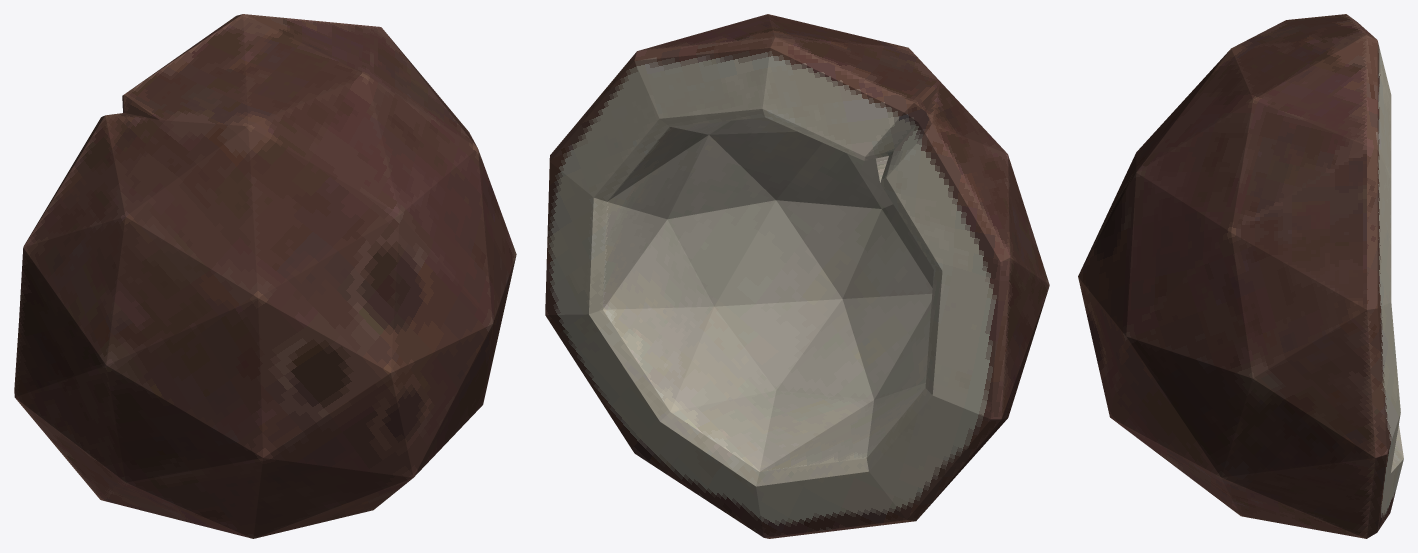
Rendered from item_coconut_shell.glb.
3 views of the same model, side by side, from view 1: azimuth 30°, elevation 25°; view 2: azimuth 150°, elevation 25°; view 3: azimuth 270°, elevation 25° (orthographic). The views are drawn at different scales.
Parts seen in each view (by area): view 1: CoconutClaps; view 2: CoconutClaps; view 3: CoconutClaps.
Boxes of the visible parts, <box> form: CoconutClaps: <box>14,14,516,538</box>; CoconutClaps: <box>545,14,1049,538</box>; CoconutClaps: <box>1078,14,1403,538</box>.
Bounding box in the file's own units: 0.2352 × 0.2472 × 0.1508.
Materials: 1 (1 with a texture image).
